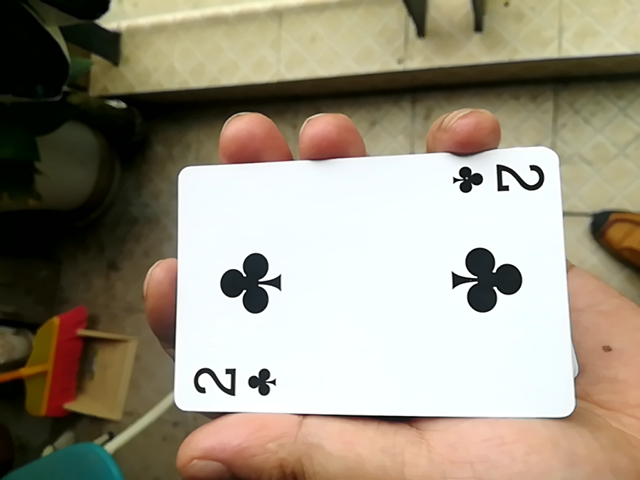mh 2: (168, 144, 571, 423)
